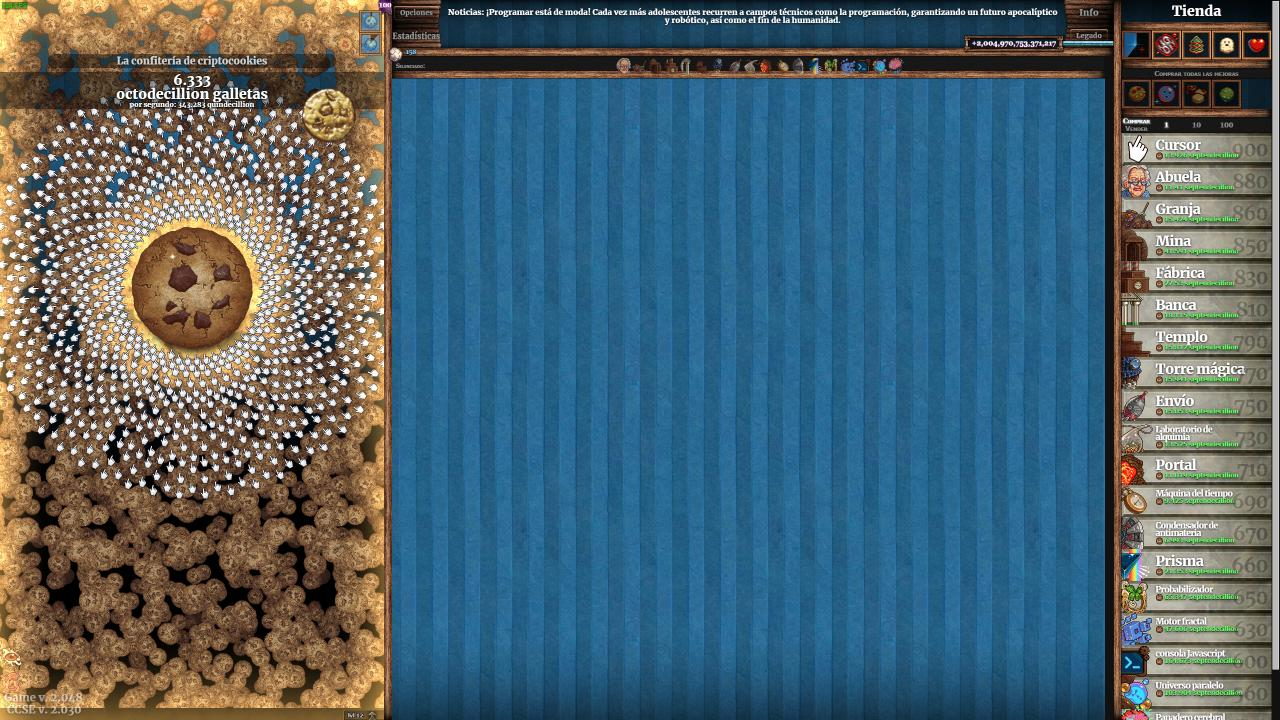GoldenCookie: (301, 86, 358, 143)
